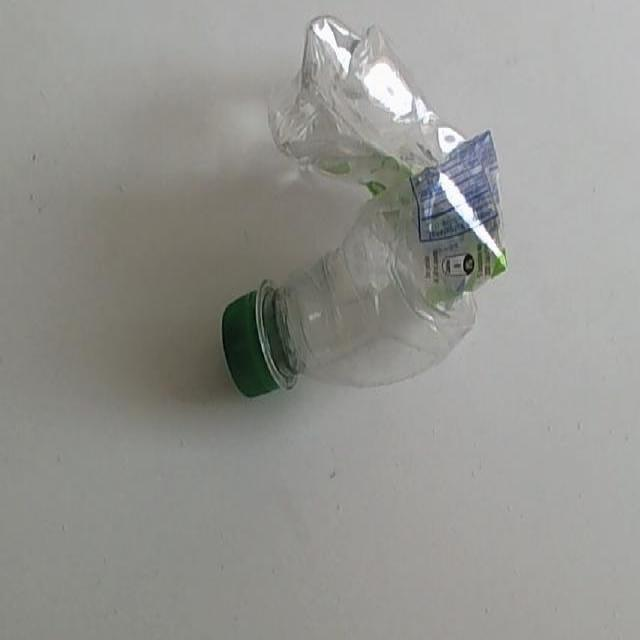defect: (218, 9, 512, 403)
